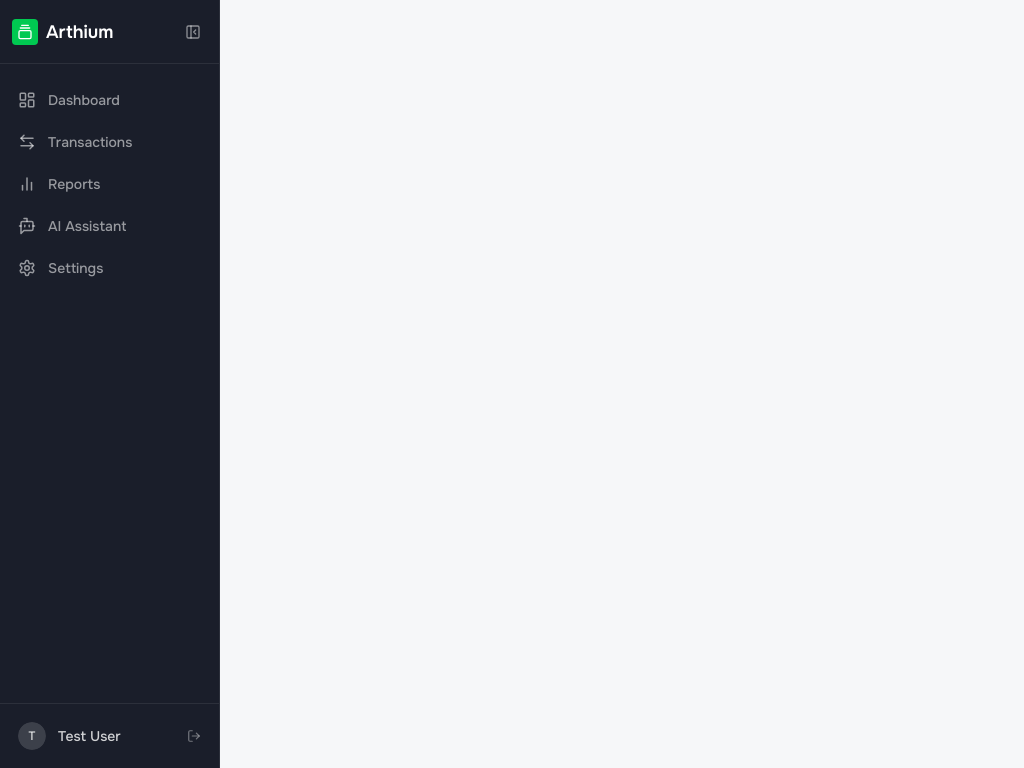
Test: Sidebar › opens the logout confirmation dialog from the profile button
Click the button with aria-label "Logout".
click(110, 736)  # box [8,712,211,760]
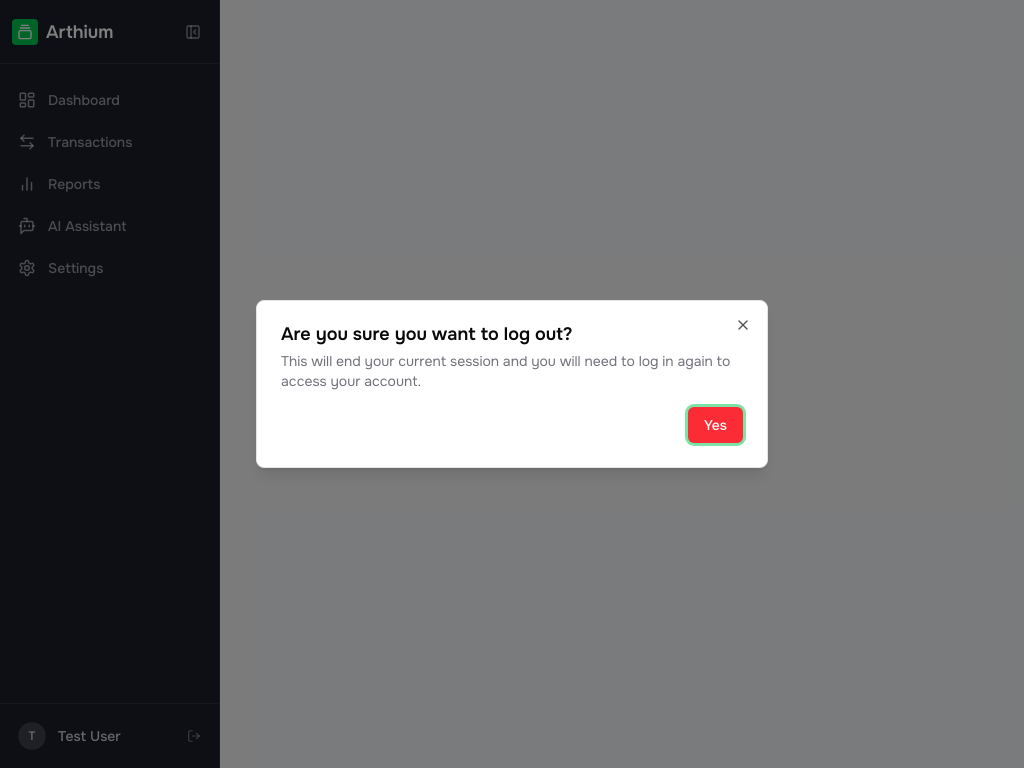
Expected: the heading "Are you sure you want to log out?" is shown, [281,323,572,345]
